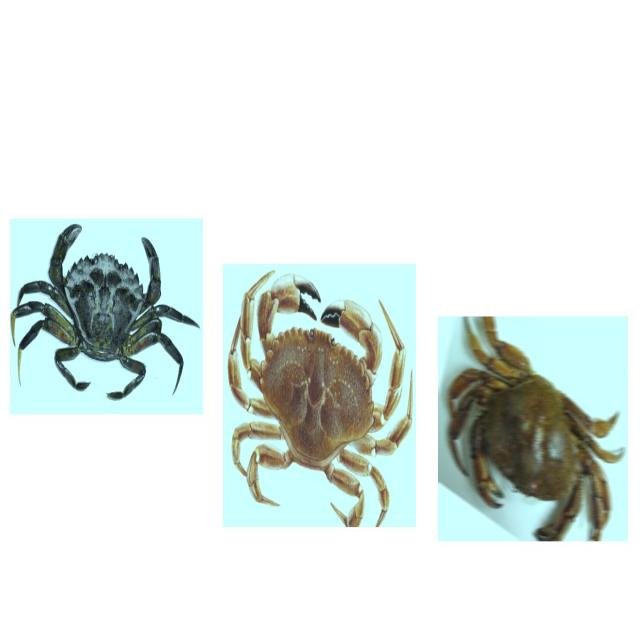egc: (13, 220, 201, 413)
jonah_crab: (224, 262, 418, 525)
rock_crab: (441, 322, 618, 534)
